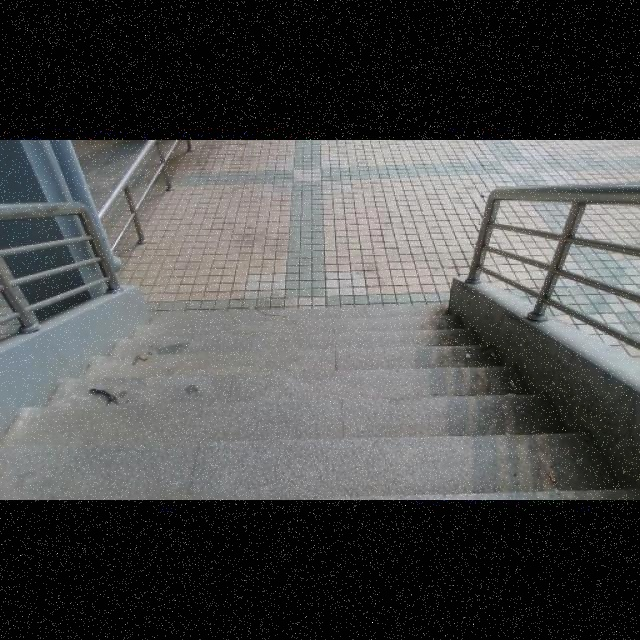stair: (40, 313, 582, 490)
